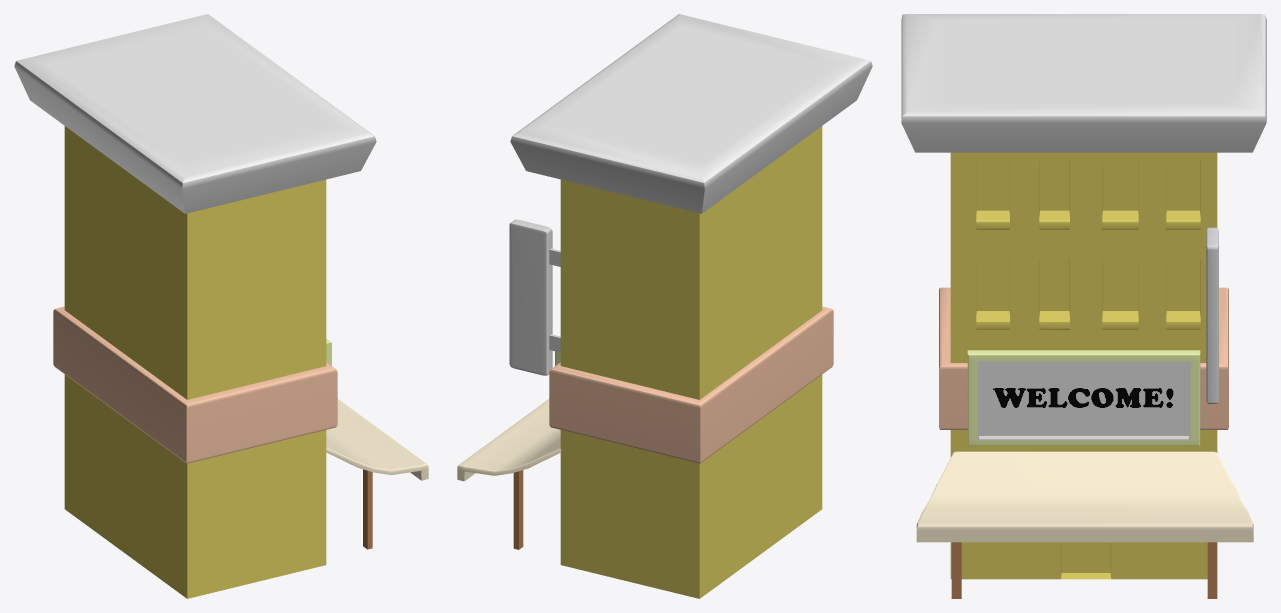
File: BuildingShort_03.fbx
3 renders of one model, left to right at view 1: azimuth 30°, elevation 25°; view 2: azimuth 150°, elevation 25°; view 3: azimuth 270°, elevation 25°, orthographic. The views are drawn at different scales.
Visible parts, largest first — view 1: polySurface830; view 2: polySurface830; view 3: polySurface830.
Boxes of the visible parts, x1=… form: polySurface830: x1=14, y1=14, x2=428, y2=598; polySurface830: x1=457, y1=14, x2=872, y2=598; polySurface830: x1=901, y1=14, x2=1266, y2=598.
Size of the model in its own units: 5.5 by 9.15 by 6.31.
Materials: 1 (1 with a texture image).
